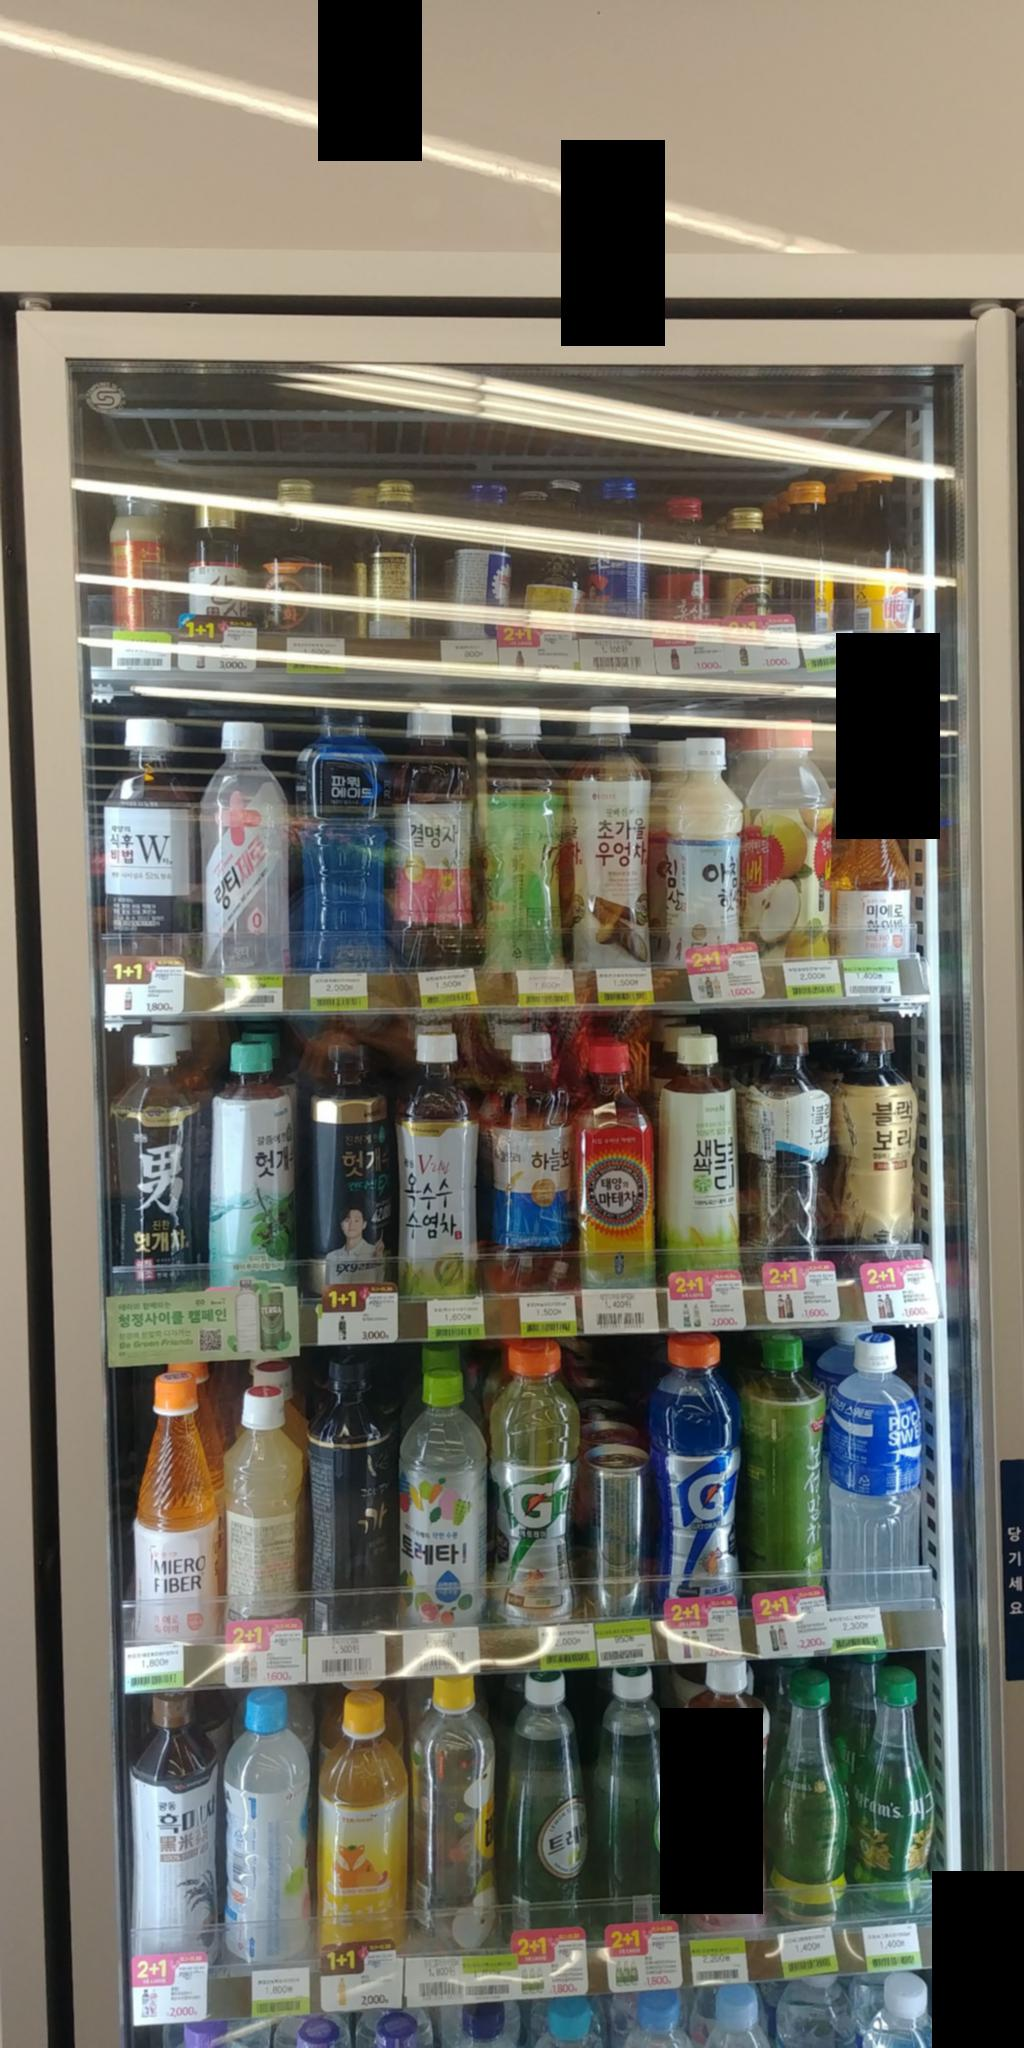gatorade_lemon: (481, 1334, 596, 1625)
haneulbori: (483, 1025, 583, 1285)
heotgaecha: (103, 1019, 213, 1289)
oksususuyeomcha: (393, 1023, 481, 1287)
powerade_mountainblast: (278, 691, 394, 965)
toreta: (402, 1366, 490, 1637)
